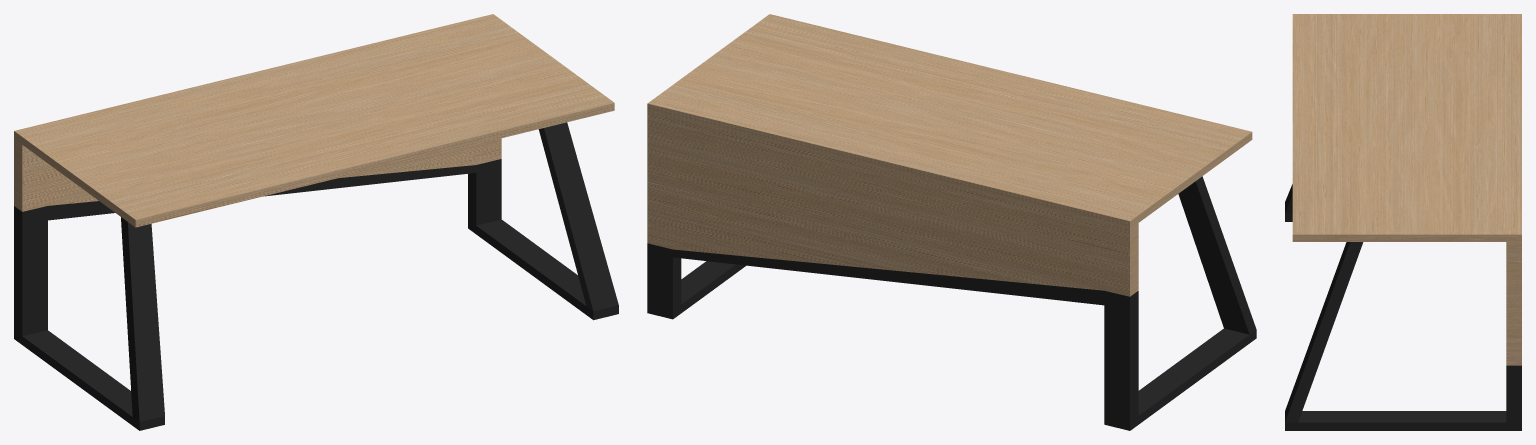
File: table_parta.glb
3 renders of one model, left to right at view 1: azimuth 30°, elevation 25°; view 2: azimuth 150°, elevation 25°; view 3: azimuth 270°, elevation 25°, orthographic. The views are drawn at different scales.
Visible parts, largest first — view 1: table 3_6; view 2: table 3_6; view 3: table 3_6.
Boxes of the visible parts, bbox=[...] form: table 3_6: bbox=[14, 14, 618, 430]; table 3_6: bbox=[647, 14, 1256, 430]; table 3_6: bbox=[1285, 14, 1521, 430].
Bounding box in the file's own units: 2.38 × 0.9876 × 1.08.
Materials: 2 (1 with a texture image).
